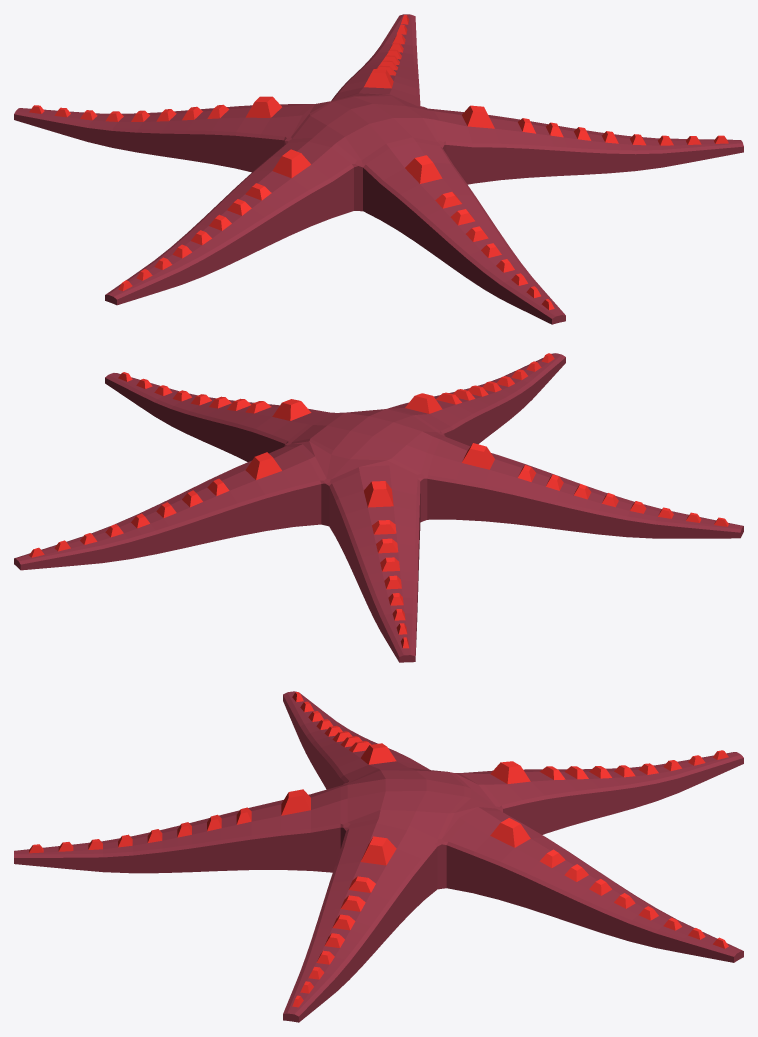
The model's file is starfish.fbx.
3 views of the same model, one above another, from view 1: azimuth 30°, elevation 25°; view 2: azimuth 150°, elevation 25°; view 3: azimuth 270°, elevation 25° (orthographic). The views are drawn at different scales.
Parts seen in each view (by area): view 1: Cylinder; view 2: Cylinder; view 3: Cylinder.
Boxes of the visible parts, <box> form: Cylinder: <box>14,14,743,324</box>; Cylinder: <box>14,353,743,662</box>; Cylinder: <box>14,691,743,1022</box>.
Size of the model in its own units: 652 by 73.95 by 620.
